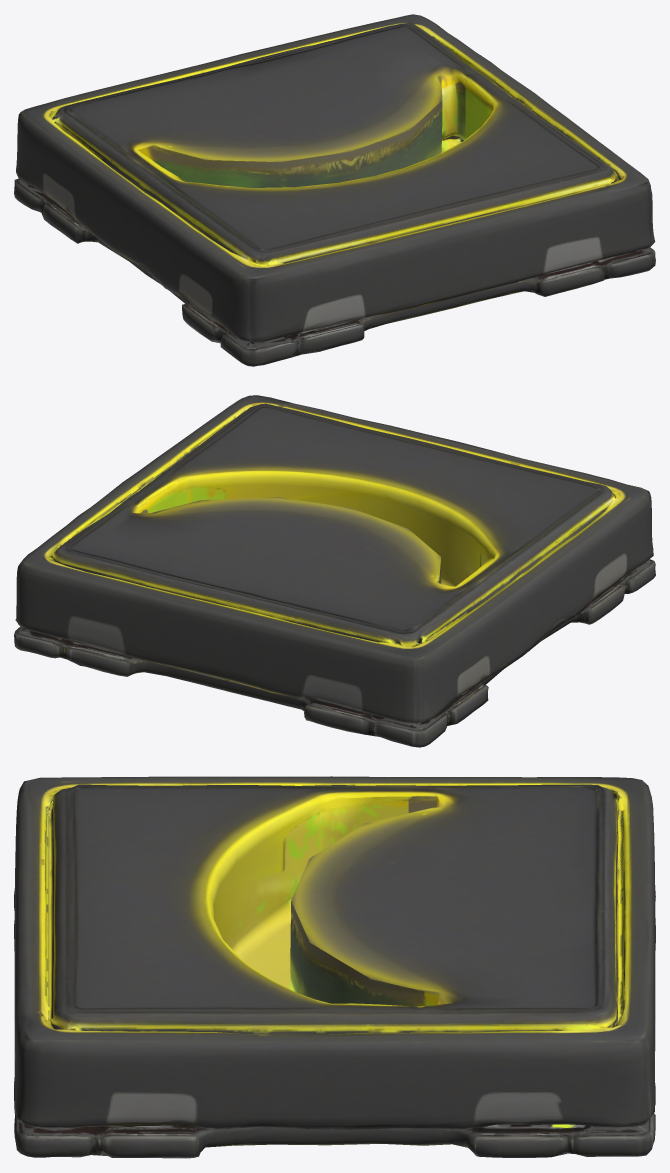
File: Neon_Curve_0926201020_texture.fbx
3 renders of one model, top to bottom at view 1: azimuth 30°, elevation 25°; view 2: azimuth 150°, elevation 25°; view 3: azimuth 270°, elevation 25°, orthographic. The views are drawn at different scales.
Parts seen in each view (by area): view 1: Mesh0; view 2: Mesh0; view 3: Mesh0.
Boxes of the visible parts, x1,y1,x2,y2 form: Mesh0: [14, 14, 655, 366]; Mesh0: [14, 395, 655, 747]; Mesh0: [14, 776, 655, 1158].
Bounding box in the file's own units: 191 × 45.04 × 191.
1 material, 1 textured.
